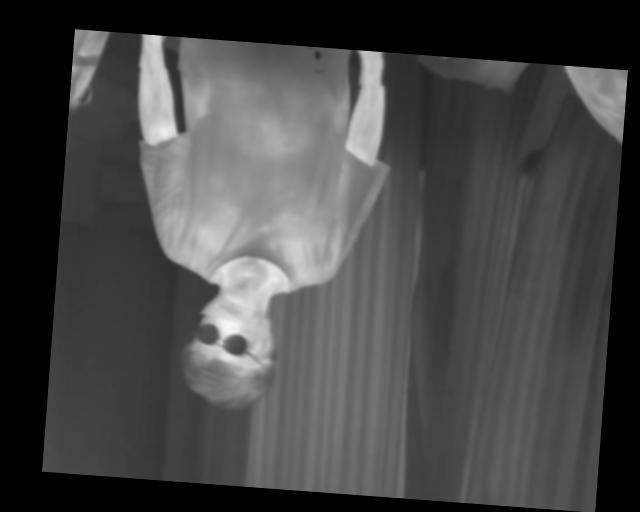face: (199, 244, 309, 375), (323, 231, 432, 359)
